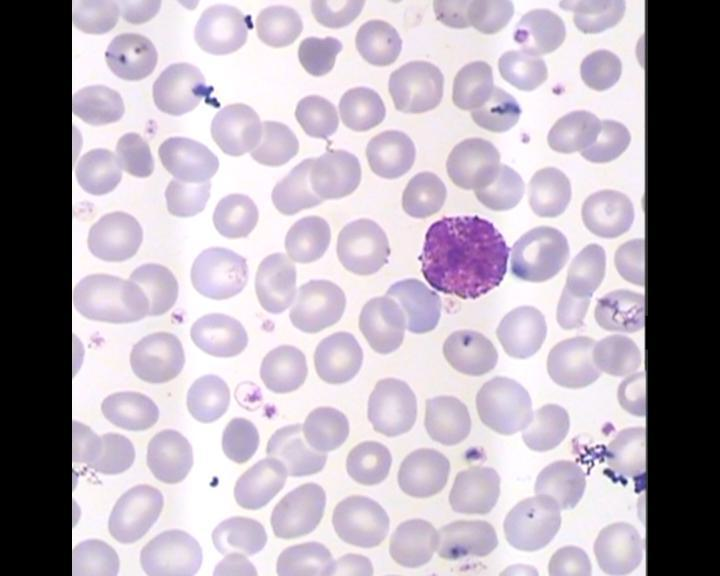baso: (414, 206, 513, 302)
